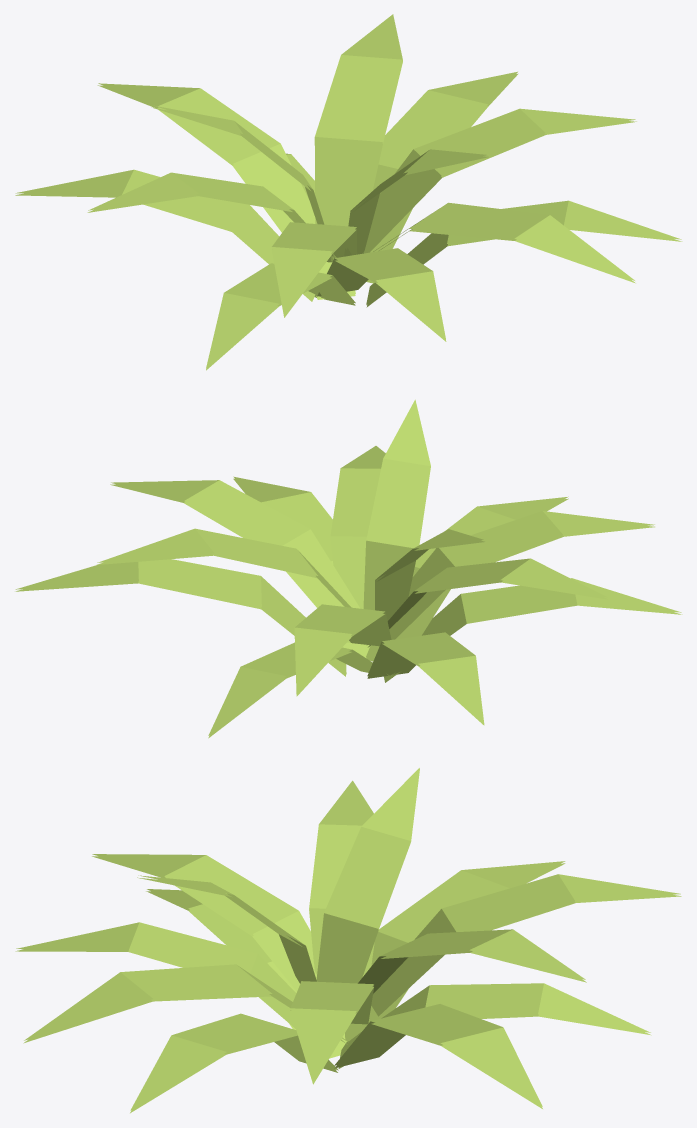
File: Plant1.fbx
3 renders of one model, top to bottom at view 1: azimuth 30°, elevation 25°; view 2: azimuth 150°, elevation 25°; view 3: azimuth 270°, elevation 25°, orthographic. The views are drawn at different scales.
Visible parts, largest first — view 1: Plant1; view 2: Plant1; view 3: Plant1.
Part boxes in pixels (x1,y1,x2,y2): Plant1: (15,14,682,370); Plant1: (15,399,682,738); Plant1: (15,768,681,1113).
Bounding box in the file's own units: 1.88 × 0.6868 × 1.93.
